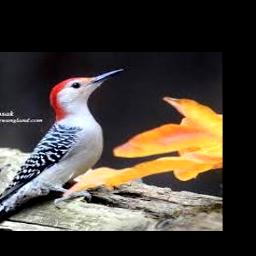Woodpecker: (0, 68, 124, 231)
